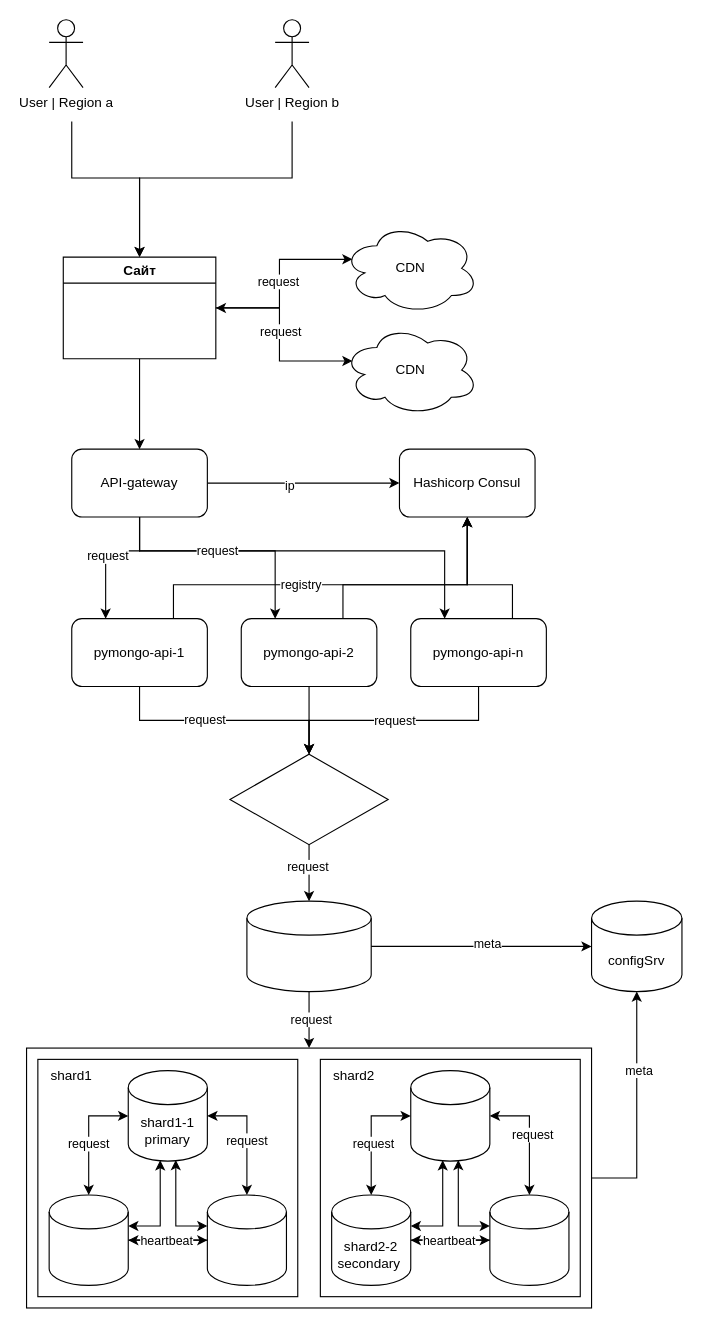
The diagram is 702 pixels wide and 1328 high, and some of its shapes have lost their labels. The box of each missing label's shape, as (x1, y1, x2, y2) in pixels:
mongos_router: (246, 900, 371, 992)
redis-cluster: (229, 753, 388, 845)
shard1-2 secondary: (48, 1194, 128, 1285)
shard1-3 secondary: (206, 1194, 286, 1285)
shard2-1 primary: (410, 1070, 490, 1161)
shard2-3 secondary: (489, 1194, 569, 1285)
